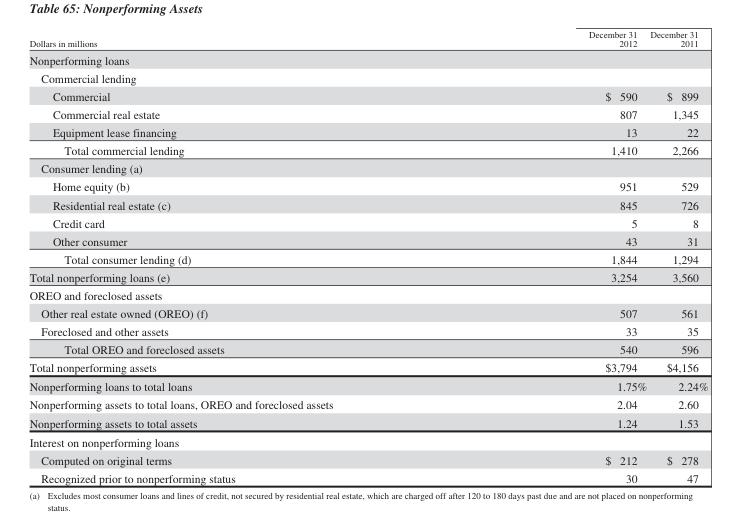table: (28, 28, 707, 484)
table column: (28, 28, 460, 484), (460, 28, 647, 484), (647, 28, 707, 484)
table column header: (28, 28, 707, 50)
table projected row header: (28, 285, 707, 304), (28, 50, 707, 68), (28, 68, 707, 86), (28, 159, 707, 177), (28, 432, 707, 450)
table row: (28, 28, 707, 50), (28, 86, 707, 105), (28, 285, 707, 304), (28, 376, 707, 395), (28, 413, 707, 432), (28, 50, 707, 68), (28, 68, 707, 86), (28, 105, 707, 123), (28, 123, 707, 141), (28, 141, 707, 159), (28, 159, 707, 177), (28, 177, 707, 195), (28, 195, 707, 213), (28, 213, 707, 231), (28, 231, 707, 249), (28, 249, 707, 267), (28, 267, 707, 285), (28, 304, 707, 322), (28, 322, 707, 340), (28, 340, 707, 358), (28, 358, 707, 376), (28, 395, 707, 413), (28, 432, 707, 450), (28, 450, 707, 468), (28, 468, 707, 484)
